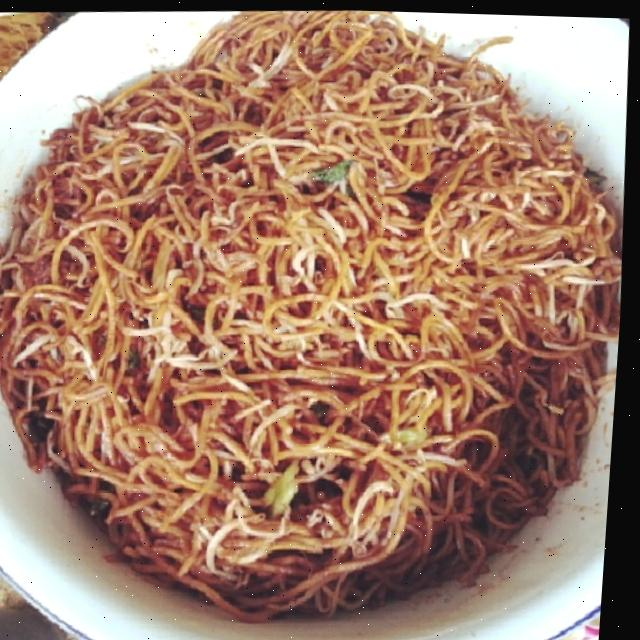面条主食: (0, 7, 630, 640)
